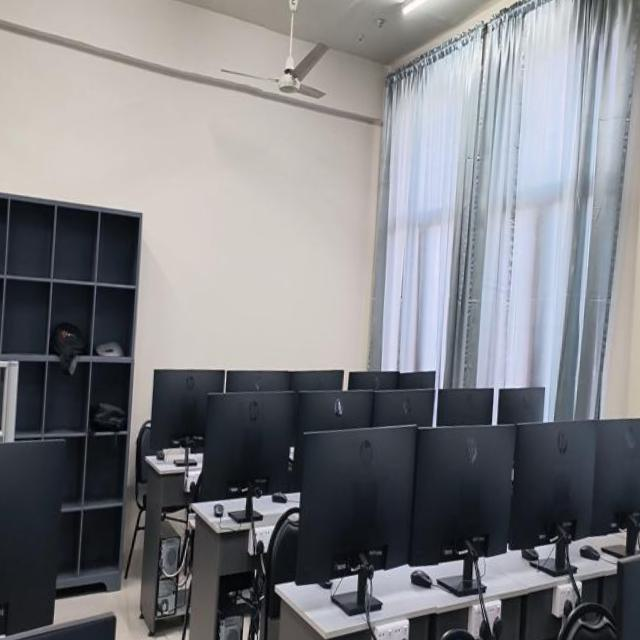Chair: (531, 537, 585, 639), (423, 566, 486, 639), (285, 473, 312, 617), (169, 411, 183, 540)
Cpu: (250, 552, 272, 639), (197, 493, 215, 574), (515, 615, 531, 639)
Light: (373, 0, 459, 66), (219, 0, 238, 21)
Monitor: (0, 434, 113, 600), (312, 402, 408, 561), (408, 396, 490, 538), (0, 571, 164, 639), (490, 387, 561, 517), (582, 485, 640, 639), (223, 382, 304, 490), (559, 382, 615, 498), (183, 366, 242, 447), (305, 375, 369, 424), (609, 376, 640, 467), (0, 395, 56, 443), (369, 371, 420, 404), (424, 367, 470, 400), (474, 363, 513, 395), (244, 363, 297, 384), (297, 359, 343, 379), (347, 359, 389, 376), (388, 356, 420, 372)
Mouse: (409, 520, 428, 533), (550, 489, 568, 502), (611, 474, 627, 485), (501, 496, 516, 507), (289, 463, 301, 472), (240, 476, 248, 487), (188, 436, 196, 443)
